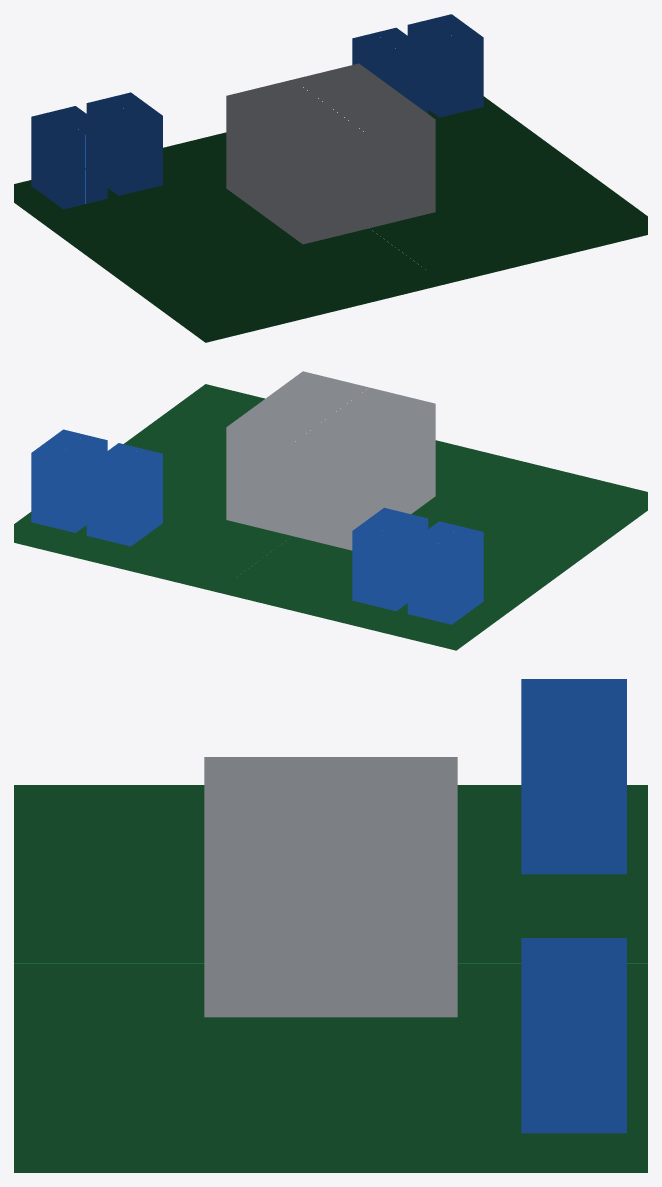
The model's file is driver_board.obj.
The picture shows the model from 3 angles, top to bottom: view 1: azimuth 30°, elevation 25°; view 2: azimuth 150°, elevation 25°; view 3: azimuth 270°, elevation 25°; orthographic projection. The views are drawn at different scales.
Parts seen in each view (by area): view 1: board, heatsink, terminal, terminal_2, terminal_4, terminal_3; view 2: board, heatsink, terminal, terminal_3, terminal_4, terminal_2; view 3: board, heatsink, terminal_2, terminal_4, terminal, terminal_3.
Part boxes in pixels (x1,y1,x2,y2): board: (14, 96, 647, 342); heatsink: (226, 63, 435, 244); terminal: (31, 106, 107, 209); terminal_2: (86, 92, 162, 195); terminal_4: (407, 14, 483, 117); terminal_3: (352, 27, 428, 113); board: (14, 384, 647, 650); heatsink: (226, 371, 435, 550); terminal: (407, 521, 483, 624); terminal_3: (86, 443, 162, 546); terminal_4: (31, 429, 107, 532); terminal_2: (352, 507, 428, 611); board: (14, 785, 647, 1172); heatsink: (204, 757, 457, 1017); terminal_2: (521, 723, 626, 874); terminal_4: (521, 982, 626, 1133); terminal: (521, 679, 626, 723); terminal_3: (521, 938, 626, 982).
Size of the model in its own units: 0.04 by 0.0096 by 0.03.
